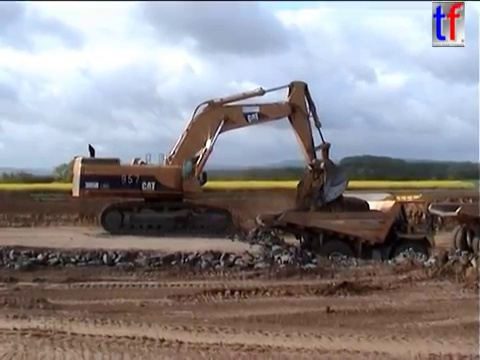excavator: (68, 78, 351, 237)
truck: (254, 191, 444, 281), (426, 199, 480, 263)
